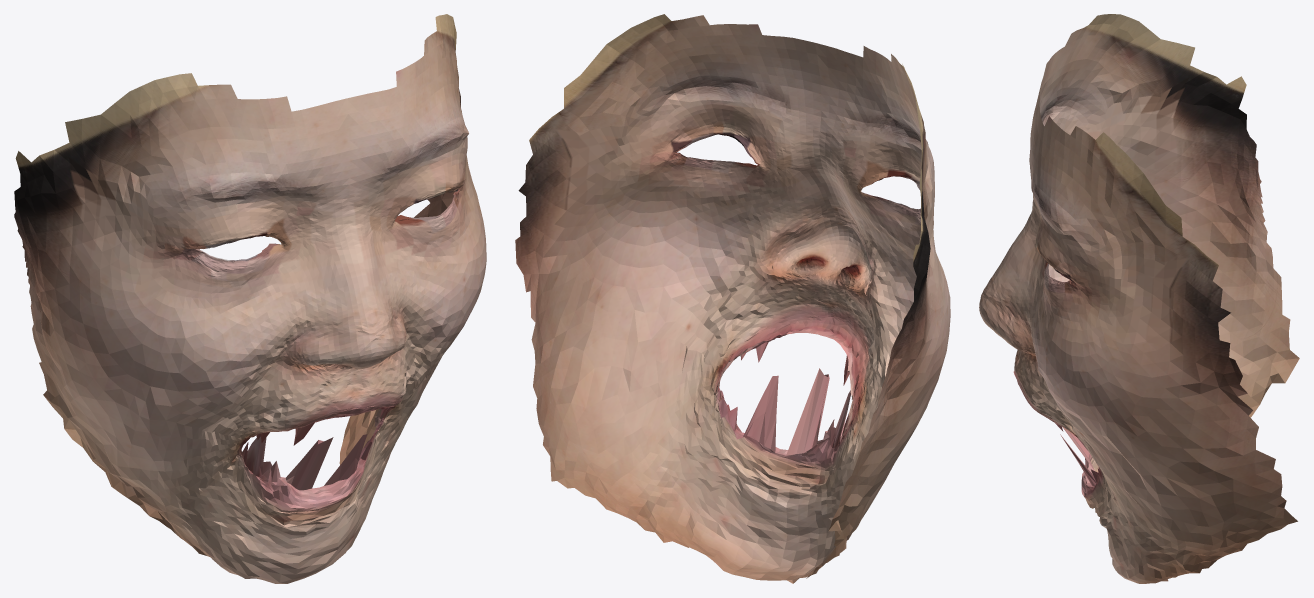
Rendered from 3_mouth_stretch.obj.
3 views of the same model, side by side, from view 1: azimuth 30°, elevation 25°; view 2: azimuth 150°, elevation 25°; view 3: azimuth 270°, elevation 25° (orthographic). The views are drawn at different scales.
Bounding box in the file's own units: 172 × 210 × 121.
Materials: 1 (1 with a texture image).
